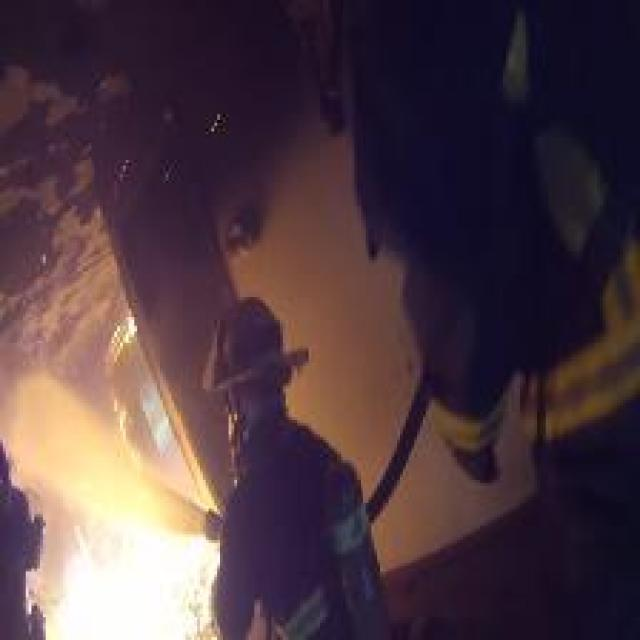smoke: (20, 417, 153, 535)
